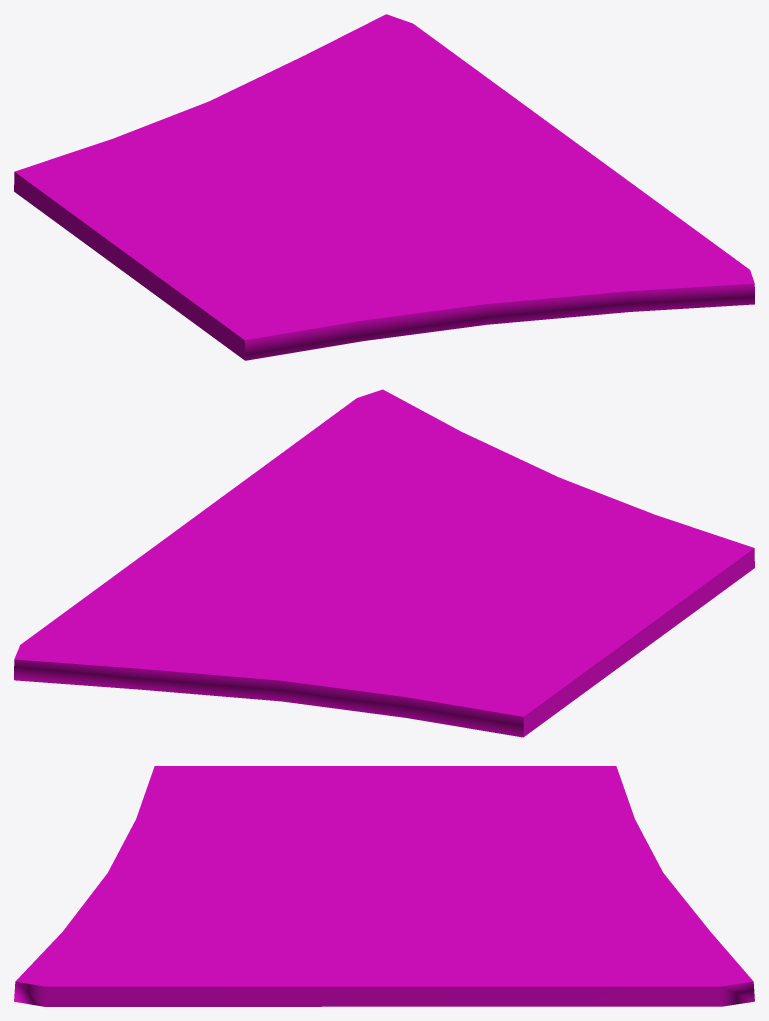
Rendered from Plastic_Pipe_Entry.fbx.
3 renders of one model, top to bottom at view 1: azimuth 30°, elevation 25°; view 2: azimuth 150°, elevation 25°; view 3: azimuth 270°, elevation 25°, orthographic.
Parts seen in each view (by area): view 1: Plastic_Pipe_Entry; view 2: Plastic_Pipe_Entry; view 3: Plastic_Pipe_Entry.
Boxes of the visible parts, x1,y1,x2,y2 form: Plastic_Pipe_Entry: [14, 14, 754, 360]; Plastic_Pipe_Entry: [14, 389, 754, 737]; Plastic_Pipe_Entry: [14, 766, 754, 1006].
Bounding box in the file's own units: 5.24 × 0.2246 × 7.43.
